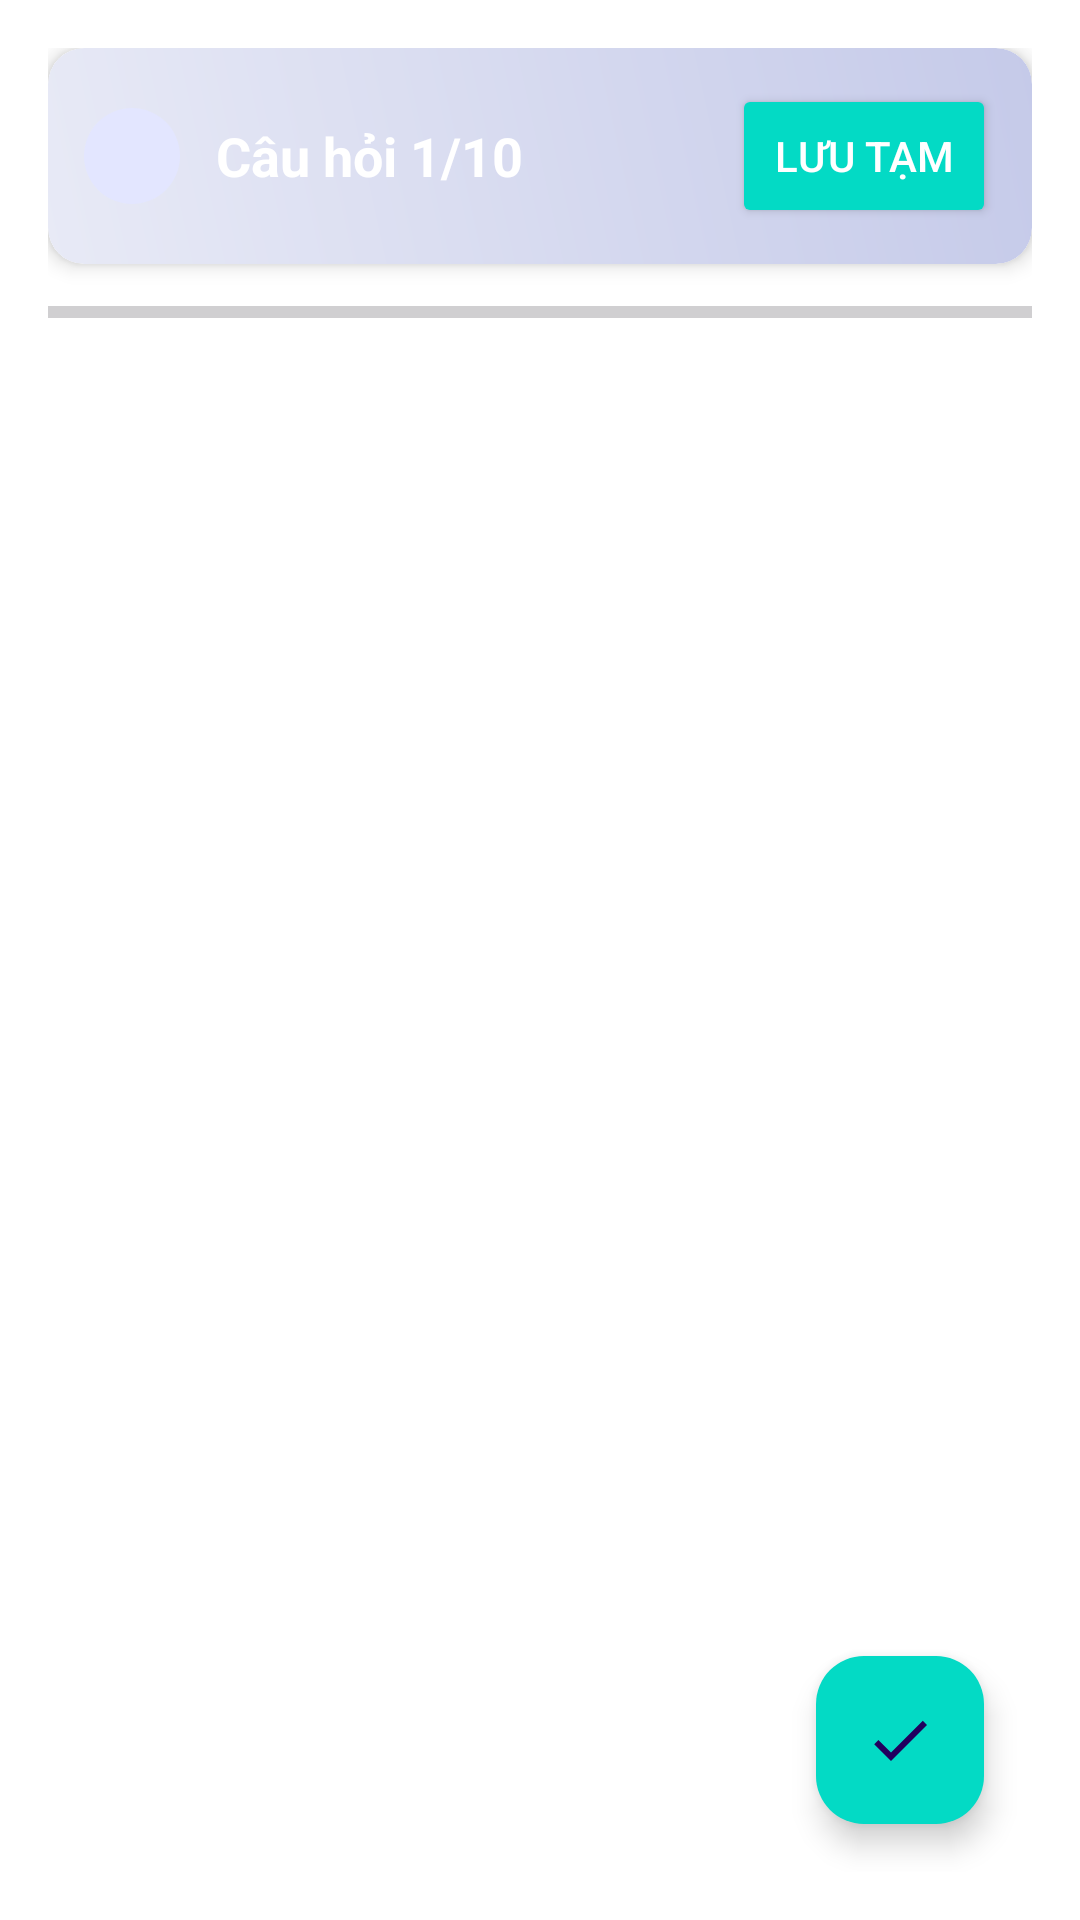

Where icons sit on this 1080×1920 app screen, as Rect(x1, y1, x2, y2):
Nộp bài: Rect(816, 1656, 984, 1824)
